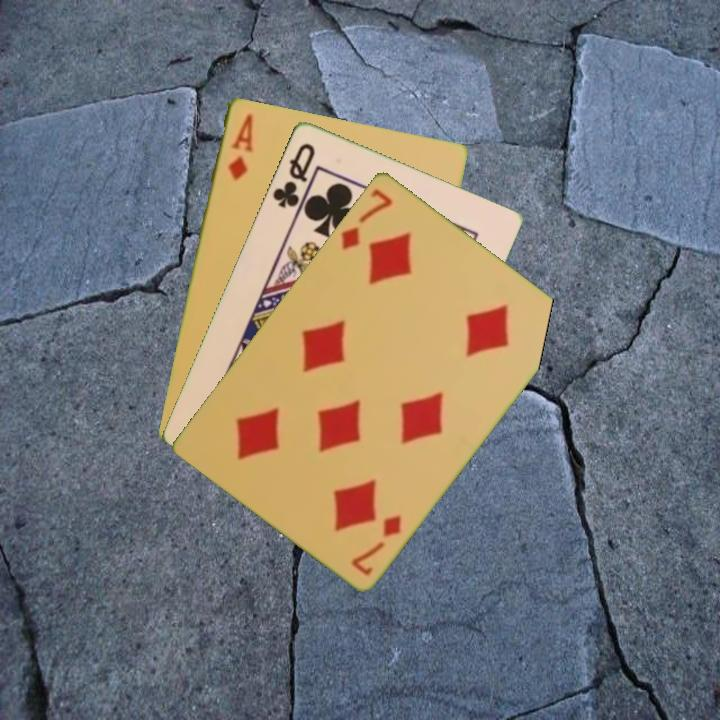7d: (337, 184, 396, 253), (347, 510, 405, 578)
Ad: (224, 110, 256, 183)
Qc: (268, 139, 318, 211)
